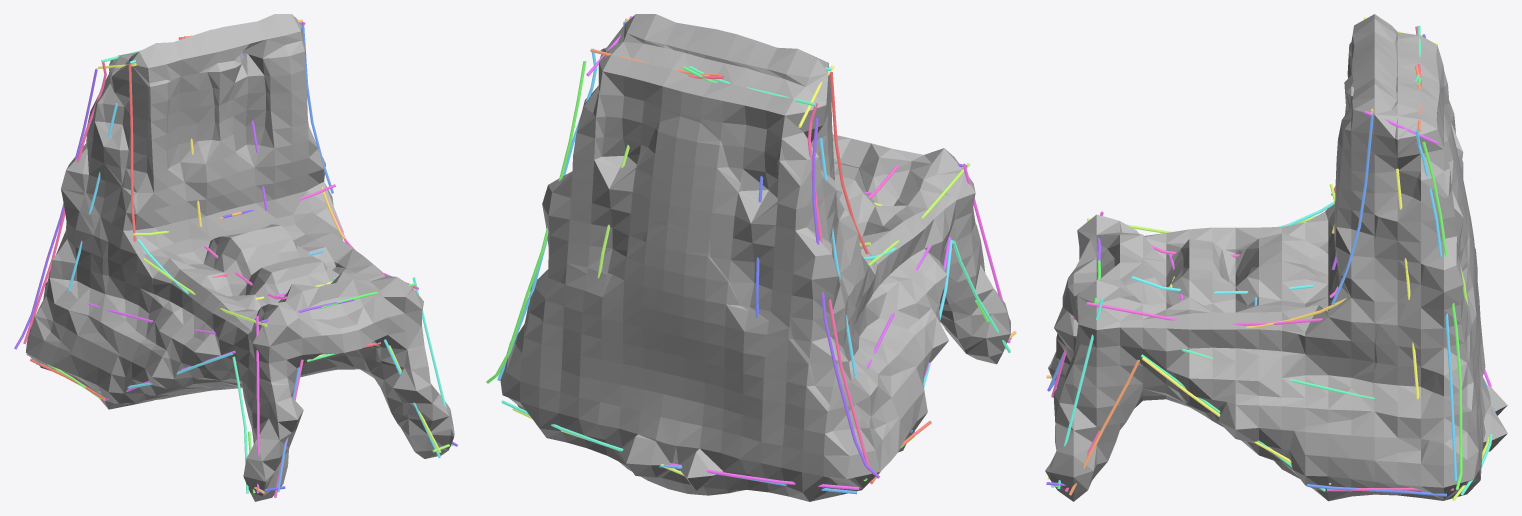
The model's file is author1_chair_ff.gltf.
The picture shows the model from 3 angles, left to right: view 1: azimuth 30°, elevation 25°; view 2: azimuth 150°, elevation 25°; view 3: azimuth 270°, elevation 25°; orthographic projection. The views are drawn at different scales.
Size of the model in its own units: 0.5763 by 0.5957 by 0.6196.
